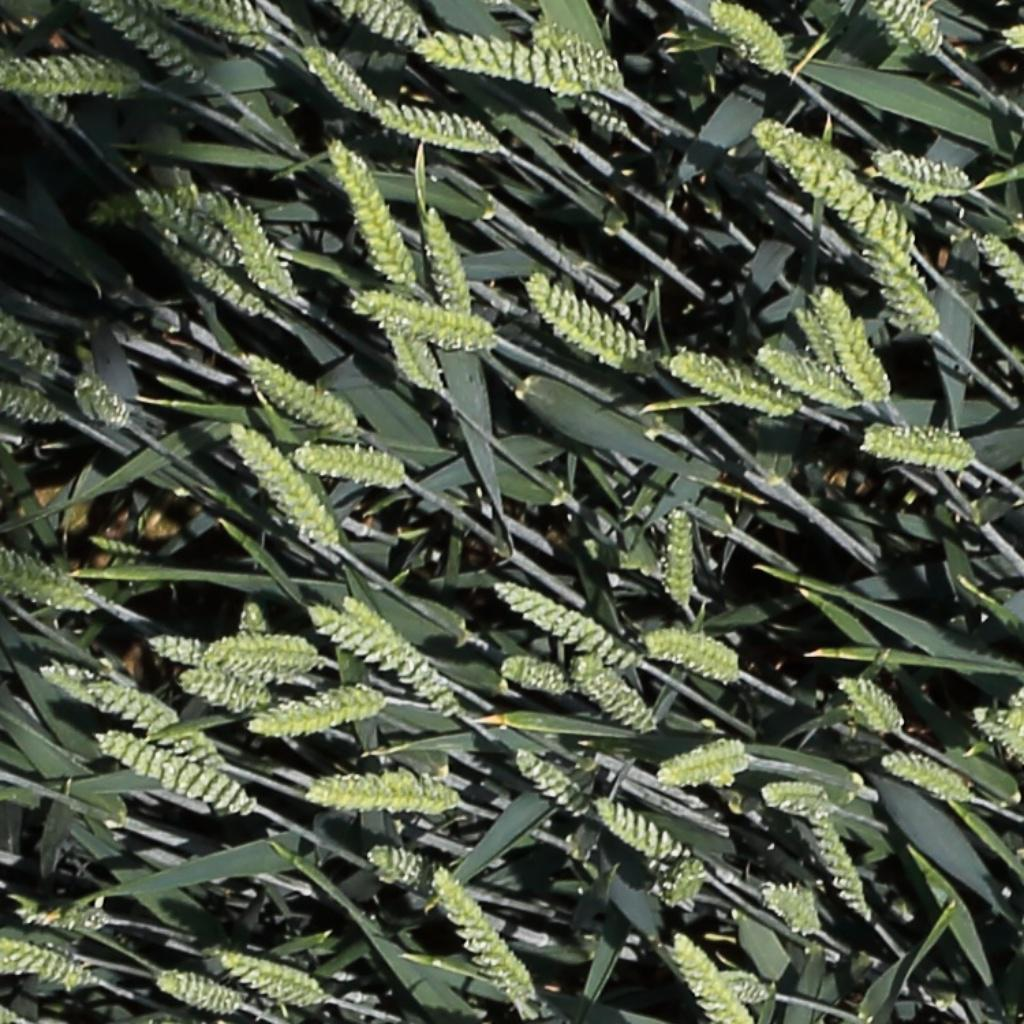0-0: (324, 595, 467, 716), (771, 137, 909, 252), (425, 861, 535, 1002), (322, 126, 416, 288), (226, 421, 337, 548), (525, 275, 663, 374), (96, 733, 252, 819), (492, 581, 633, 667), (353, 292, 500, 362), (86, 0, 204, 86), (428, 36, 607, 90), (208, 191, 294, 303), (813, 288, 894, 404), (97, 683, 216, 761), (662, 346, 798, 413), (241, 353, 352, 434), (246, 677, 389, 739), (800, 801, 871, 921), (288, 441, 422, 501), (306, 764, 451, 819), (0, 50, 150, 101), (589, 796, 697, 865), (132, 187, 234, 260), (667, 931, 746, 1024), (162, 243, 262, 315), (866, 240, 940, 335), (860, 414, 976, 472), (41, 658, 144, 722), (305, 604, 397, 674), (199, 634, 321, 686), (753, 346, 852, 409), (374, 304, 441, 397), (417, 199, 469, 315), (872, 151, 981, 204), (512, 749, 592, 821), (707, 1, 787, 70), (0, 938, 103, 991), (529, 19, 618, 80), (641, 623, 737, 679), (751, 112, 846, 167), (212, 953, 318, 1002), (577, 671, 661, 732), (300, 46, 372, 116), (376, 106, 498, 147), (976, 225, 1024, 322), (655, 735, 751, 783), (1, 550, 86, 602), (880, 755, 973, 802), (870, 0, 948, 56), (834, 674, 902, 735), (663, 499, 698, 612), (0, 307, 58, 375), (173, 2, 264, 45), (789, 299, 842, 372), (176, 670, 263, 712), (2, 570, 90, 611), (69, 371, 128, 430), (756, 781, 836, 824), (151, 973, 240, 1011), (6, 75, 73, 125), (339, 2, 421, 42), (759, 883, 820, 936), (365, 839, 429, 887), (973, 714, 1024, 772), (495, 656, 571, 694), (567, 87, 628, 133), (13, 906, 114, 931), (0, 383, 60, 423), (143, 637, 206, 662), (87, 533, 150, 558), (234, 593, 264, 644), (988, 694, 1024, 730), (719, 977, 768, 1002), (1002, 22, 1024, 52)
